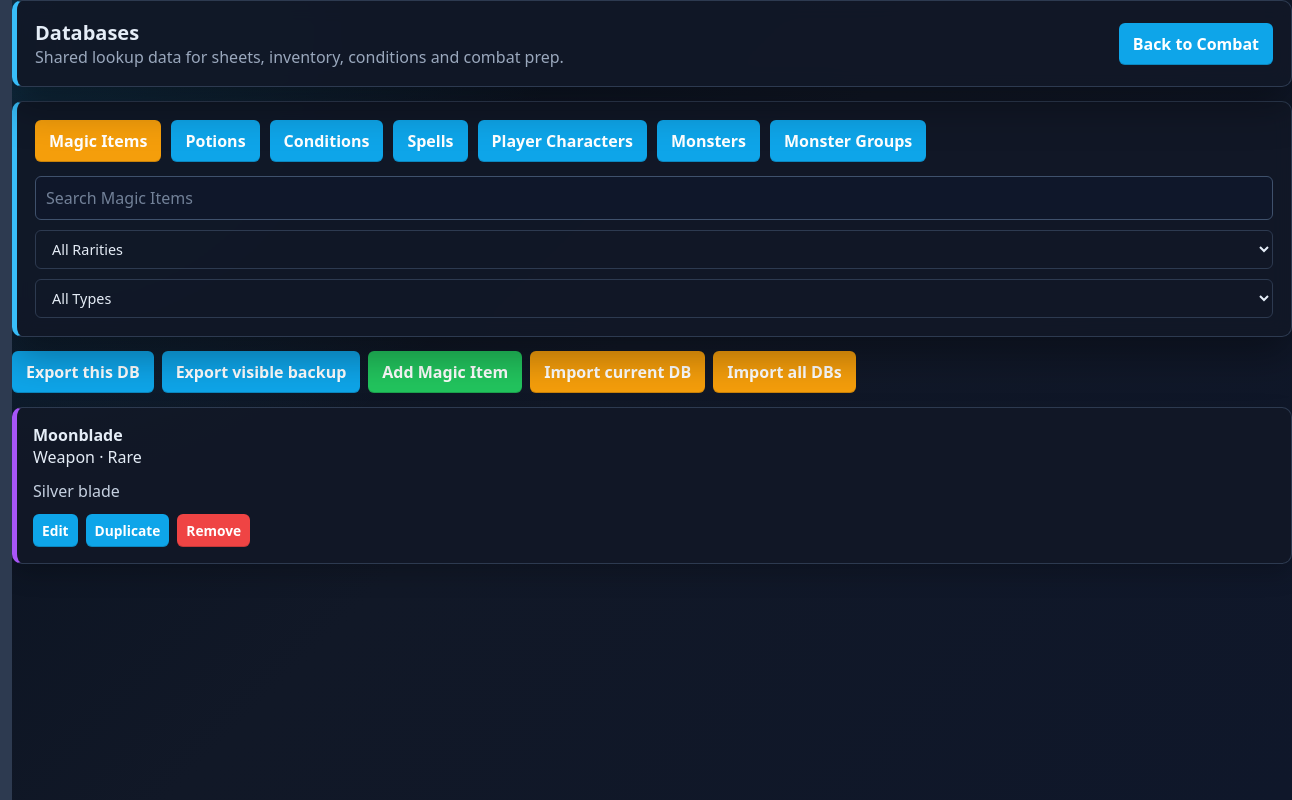
Test: page visual behavior › does not leak condition cards into other database tabs while switching and searching
Click the button "Conditions": coordinates (326, 141) [270, 120, 383, 162]
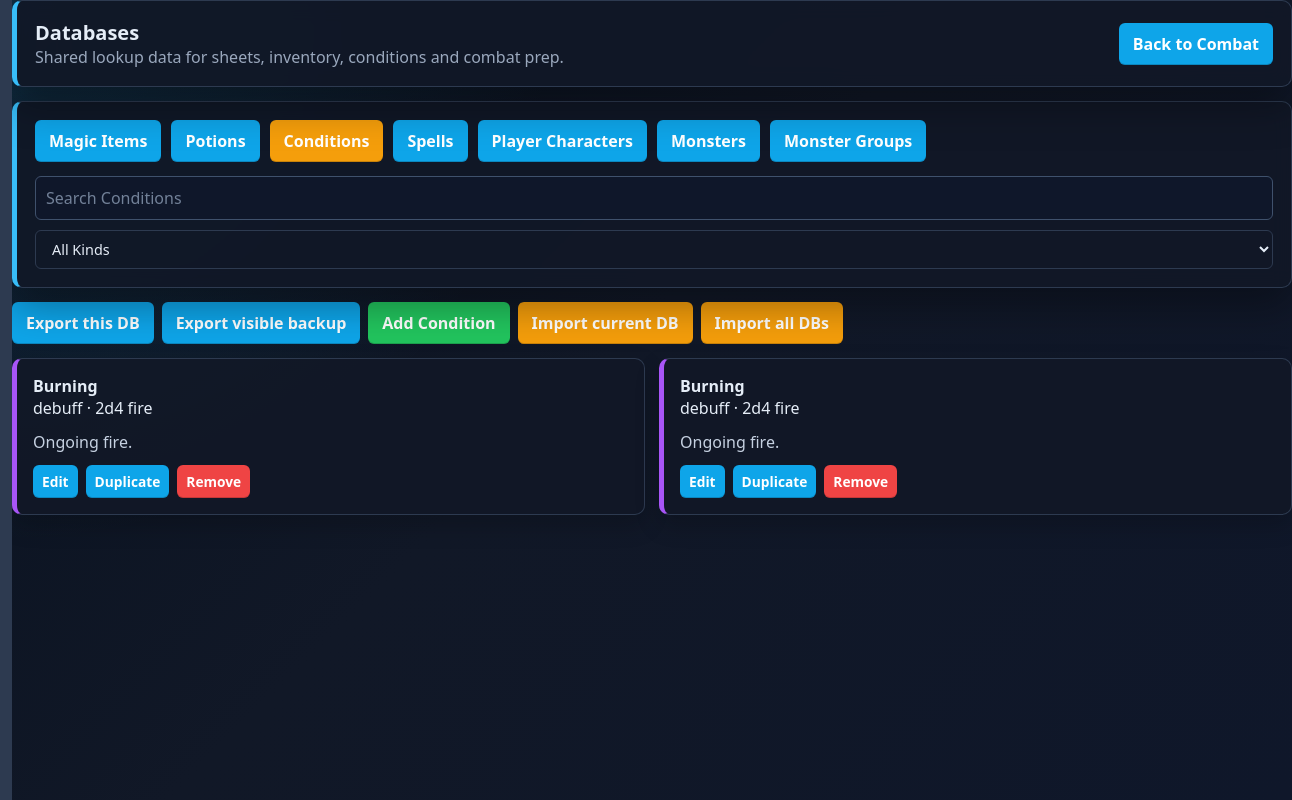
Result: the number of headings "Burning" is 2 at [33, 375, 98, 397]; [680, 375, 745, 397]
Click the button "Spells": coordinates (430, 141) [393, 120, 468, 162]
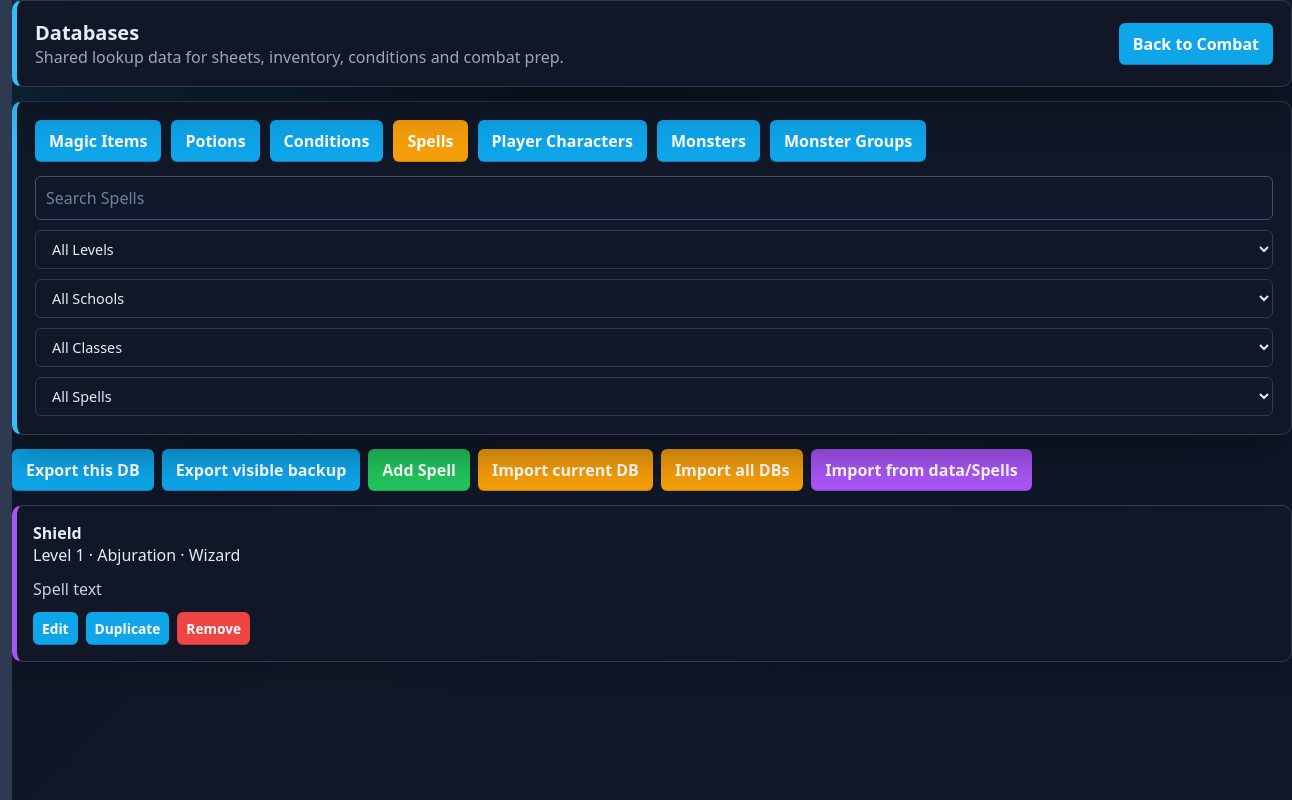
Result: the heading "Burning" is gone
Result: the heading "Shield" is shown at [33, 522, 82, 544]
In the field with placeholder "Search Spells": coordinates (654, 198) [35, 176, 1273, 220], type "burn"
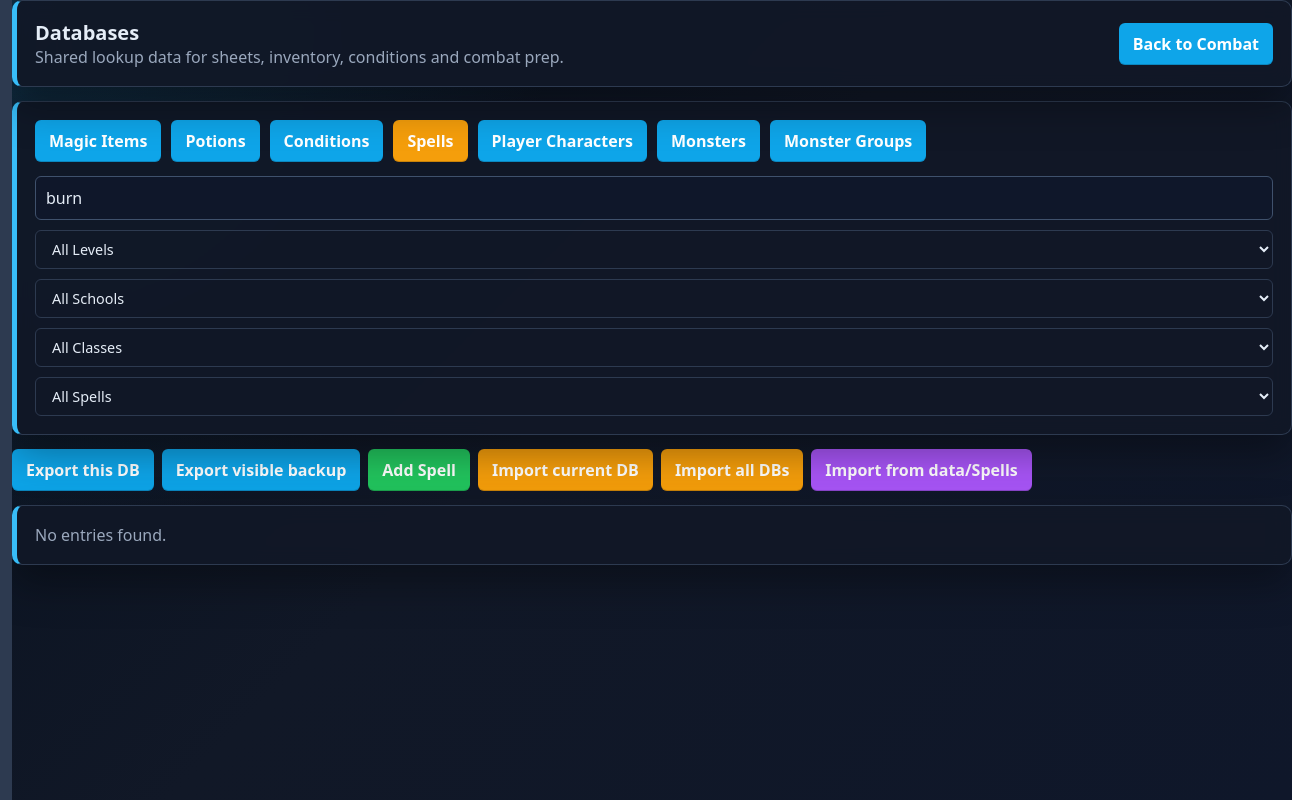
Expected: the heading "Burning" is not shown
Result: the text "No entries found." is shown at [35, 524, 166, 546]
Click the button "Magic Items": coordinates (98, 141) [35, 120, 161, 162]
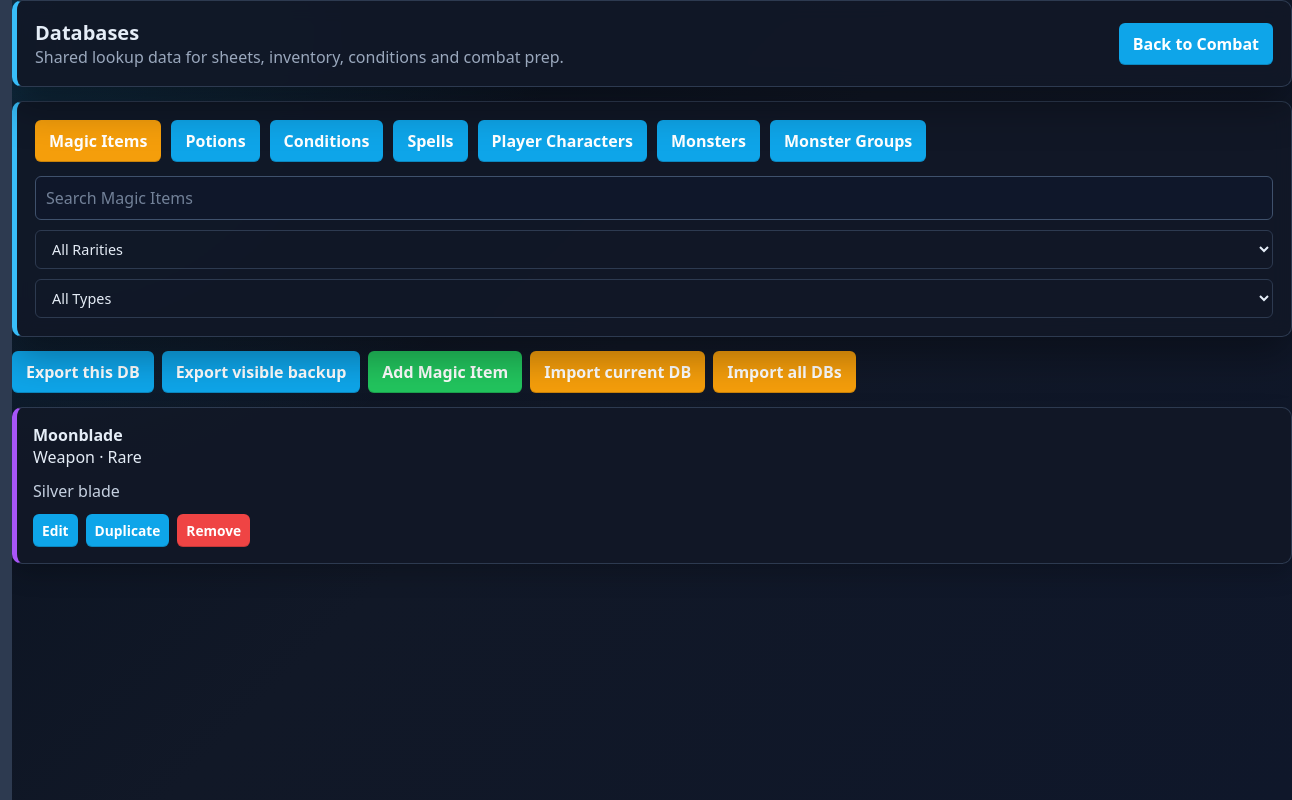
Expected: the heading "Burning" is not shown
Result: the heading "Moonblade" is shown at [33, 424, 123, 446]
